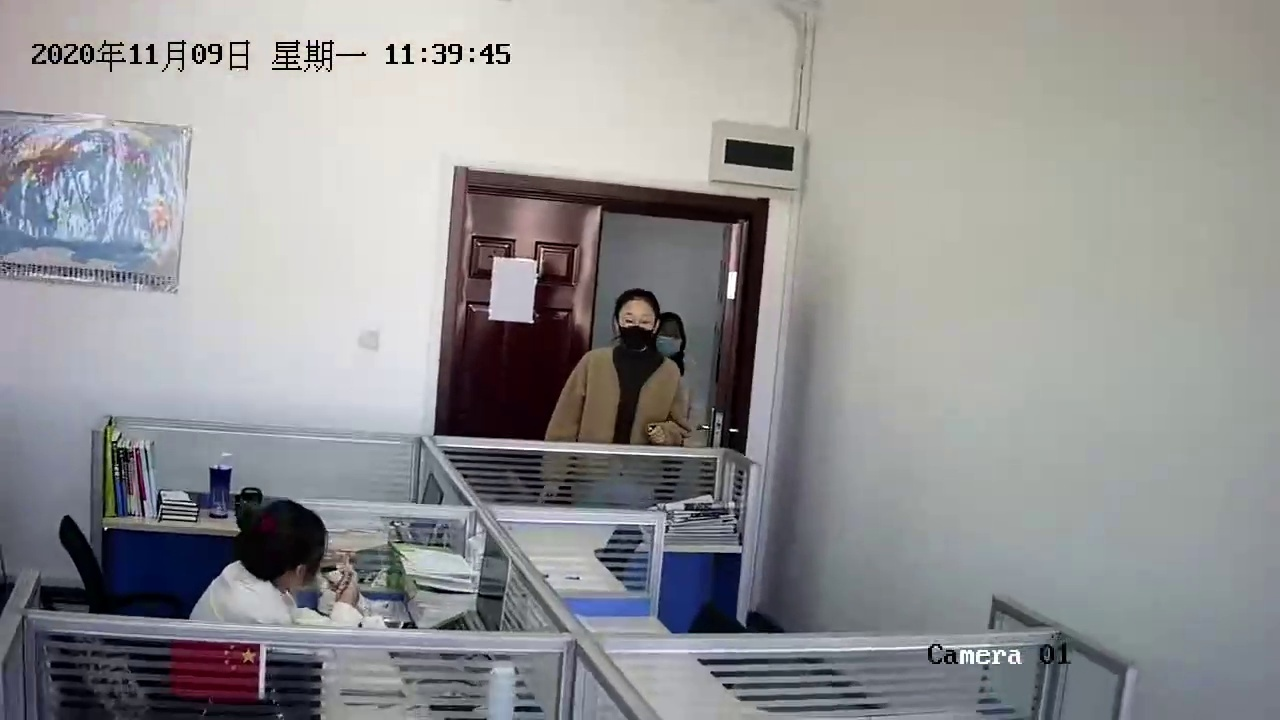mask: (612, 290, 659, 350), (660, 311, 687, 361)
